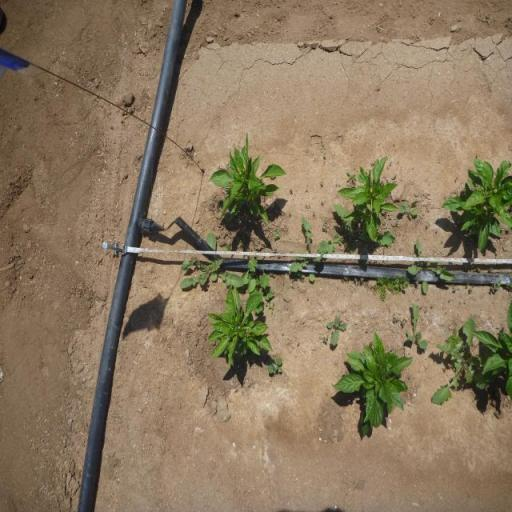plant: (333, 330, 415, 442), (206, 133, 288, 236), (204, 285, 274, 370), (335, 154, 397, 239), (479, 298, 512, 405)
weed: (426, 314, 487, 413), (176, 227, 247, 295), (327, 202, 398, 255), (408, 241, 454, 295), (286, 215, 328, 273), (247, 259, 273, 313), (406, 301, 428, 352), (326, 314, 348, 347), (373, 276, 399, 300), (398, 198, 421, 218), (266, 356, 284, 377), (446, 326, 462, 343), (344, 236, 358, 255), (344, 169, 358, 184), (396, 276, 410, 290), (490, 280, 503, 292), (268, 302, 276, 316), (272, 229, 280, 239), (223, 243, 232, 251), (298, 274, 306, 282), (322, 222, 328, 232), (451, 284, 457, 294), (468, 284, 474, 294), (400, 318, 406, 327), (322, 336, 328, 344), (359, 277, 365, 285), (344, 276, 350, 282), (269, 272, 276, 277), (476, 266, 481, 273), (239, 239, 243, 247), (320, 180, 324, 186)
